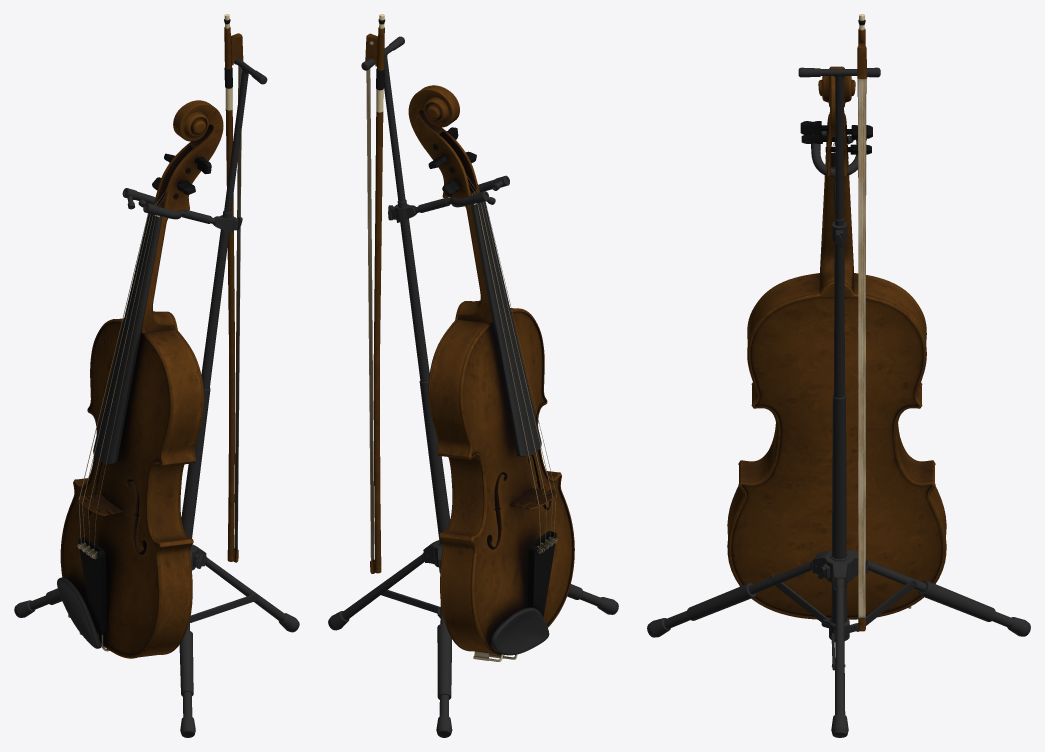
The model's file is voilin.fbx.
3 views of the same model, side by side, from view 1: azimuth 30°, elevation 25°; view 2: azimuth 150°, elevation 25°; view 3: azimuth 270°, elevation 25° (orthographic). The views are drawn at different scales.
Parts seen in each view (by area): view 1: Violin01, Violin01Stand01, Violin01Bow01; view 2: Violin01, Violin01Stand01, Violin01Bow01; view 3: Violin01, Violin01Stand01, Violin01Bow01.
Boxes of the visible parts, left/top/right/bottom form: Violin01: left=57, top=100, right=223, bottom=658; Violin01Stand01: left=14, top=58, right=299, bottom=737; Violin01Bow01: left=224, top=14, right=243, bottom=562; Violin01: left=408, top=85, right=574, bottom=661; Violin01Stand01: left=328, top=36, right=618, bottom=737; Violin01Bow01: left=365, top=14, right=385, bottom=573; Violin01: left=727, top=66, right=946, bottom=619; Violin01Stand01: left=647, top=67, right=1030, bottom=737; Violin01Bow01: left=857, top=14, right=867, bottom=631.
Bounding box in the file's own units: 305 × 842 × 422.
